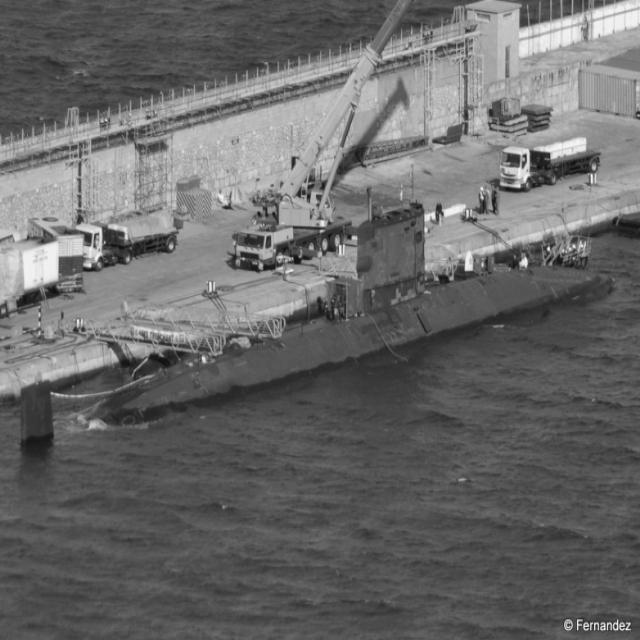submarine: (20, 200, 620, 446)
